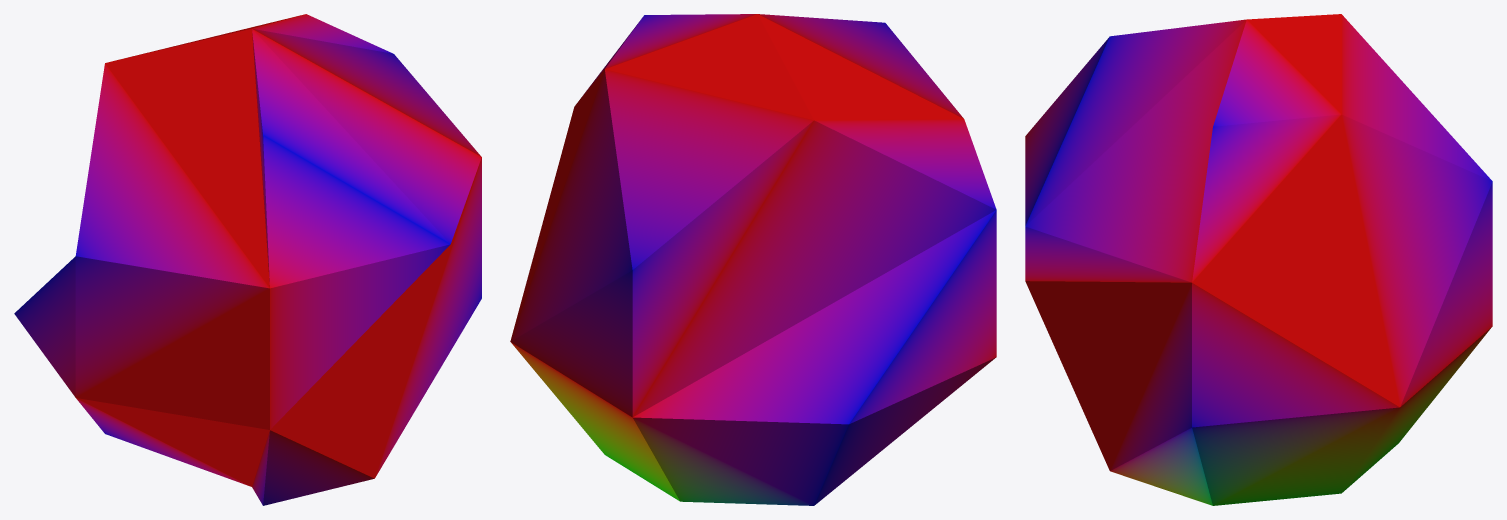
Rendered from after_decimating_conquest_1_16.obj.
The picture shows the model from 3 angles, left to right: view 1: azimuth 30°, elevation 25°; view 2: azimuth 150°, elevation 25°; view 3: azimuth 270°, elevation 25°; orthographic projection. The views are drawn at different scales.
Size of the model in its own units: 1.85 by 2 by 1.81.
